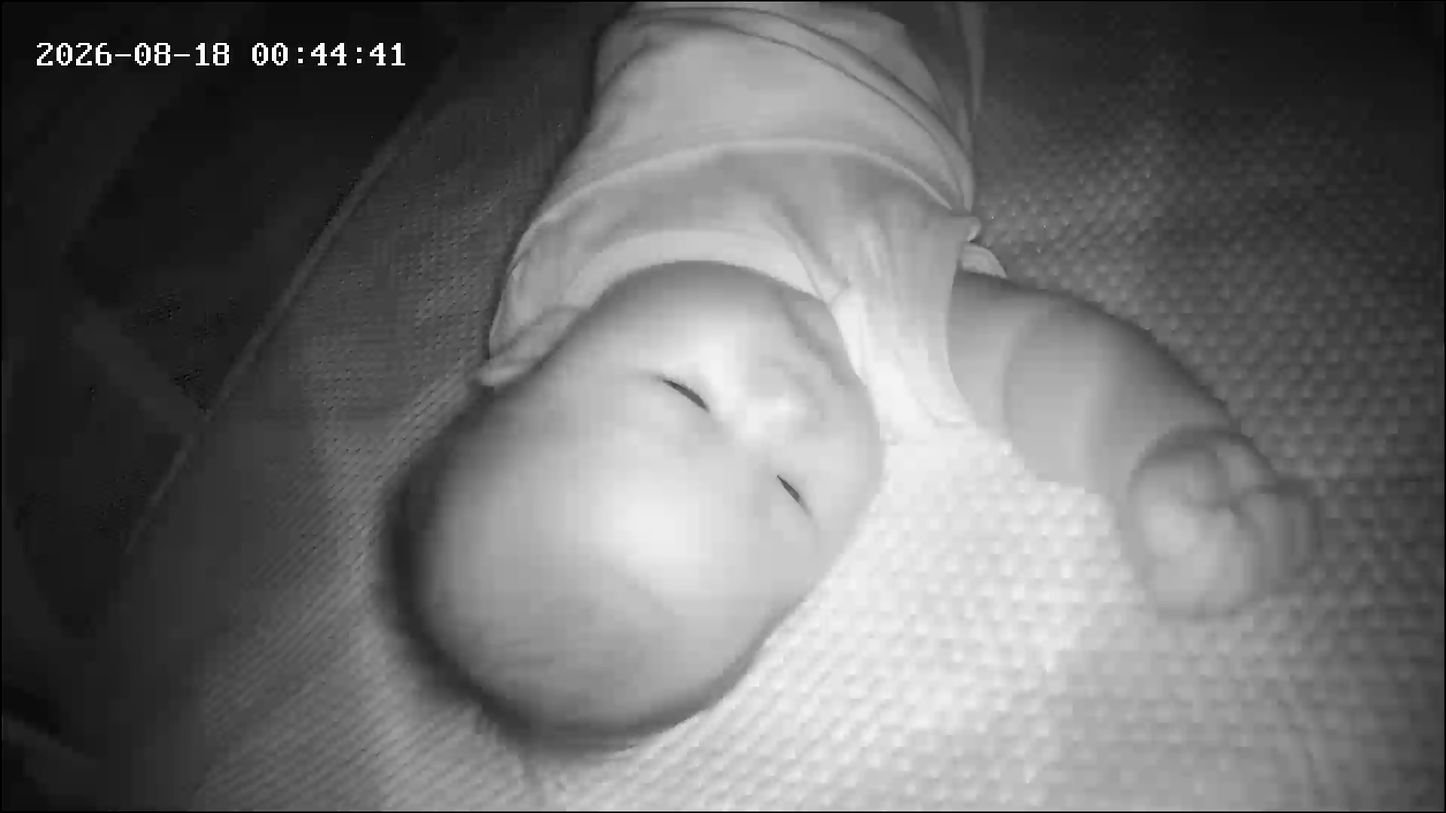baby: (332, 4, 1280, 774)
baby_face: (371, 254, 905, 752)
